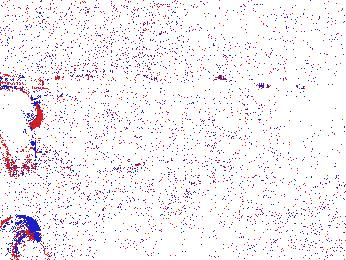flame jellyfish: (1, 82, 45, 178), (182, 194, 234, 246), (1, 215, 51, 260)
